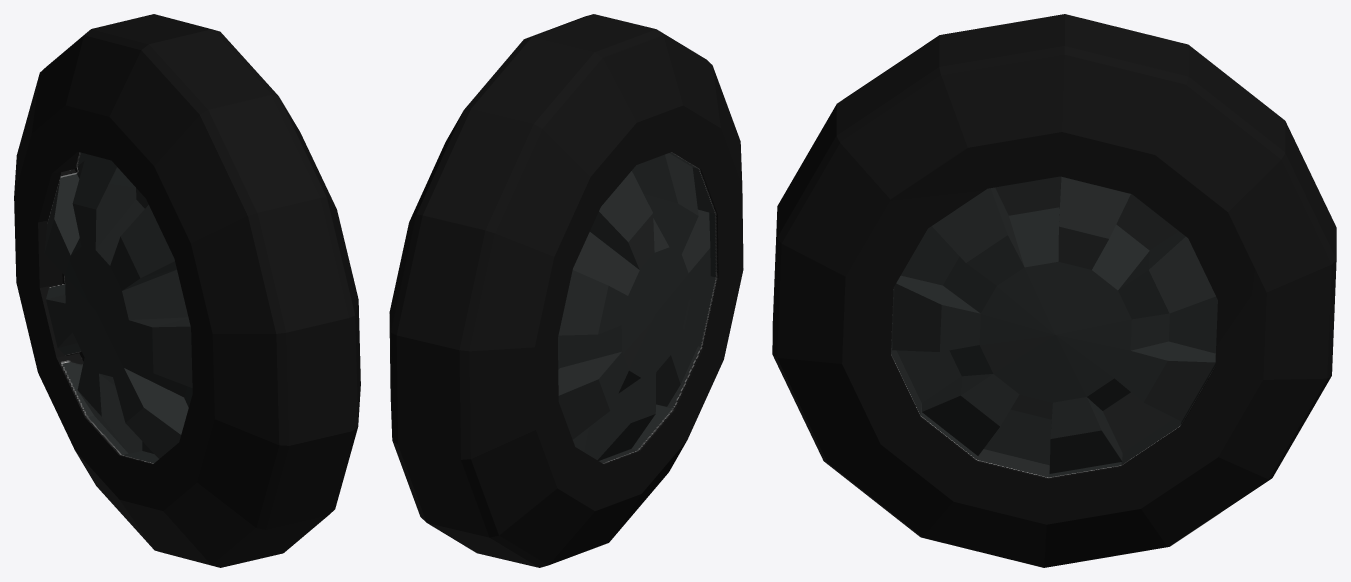
Rendered from left back.fbx.
3 renders of one model, left to right at view 1: azimuth 30°, elevation 25°; view 2: azimuth 150°, elevation 25°; view 3: azimuth 270°, elevation 25°, orthographic. The views are drawn at different scales.
Parts seen in each view (by area): view 1: left_back; view 2: left_back; view 3: left_back.
Boxes of the visible parts, x1=… form: left_back: x1=14, y1=14, x2=360, y2=567; left_back: x1=389, y1=14, x2=743, y2=567; left_back: x1=772, y1=14, x2=1336, y2=567.
Size of the model in its own units: 30.71 by 83.36 by 81.9.
